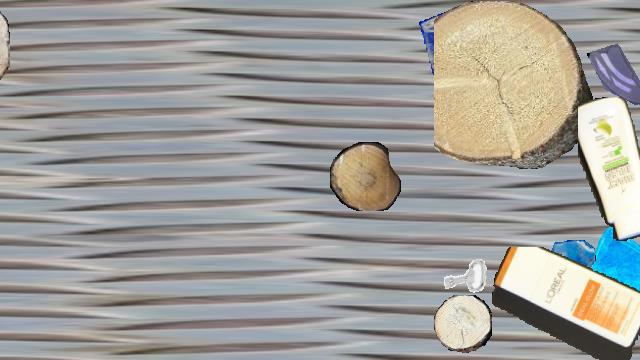glass: (419, 1, 511, 93), (572, 225, 640, 319), (586, 38, 640, 108), (536, 240, 596, 300)
metal: (491, 93, 549, 151), (438, 248, 494, 304)
plastic: (492, 247, 640, 359), (578, 97, 640, 241), (0, 1, 4, 101)
wood: (434, 1, 592, 169), (330, 142, 400, 210), (434, 295, 492, 353), (0, 1, 9, 83)
